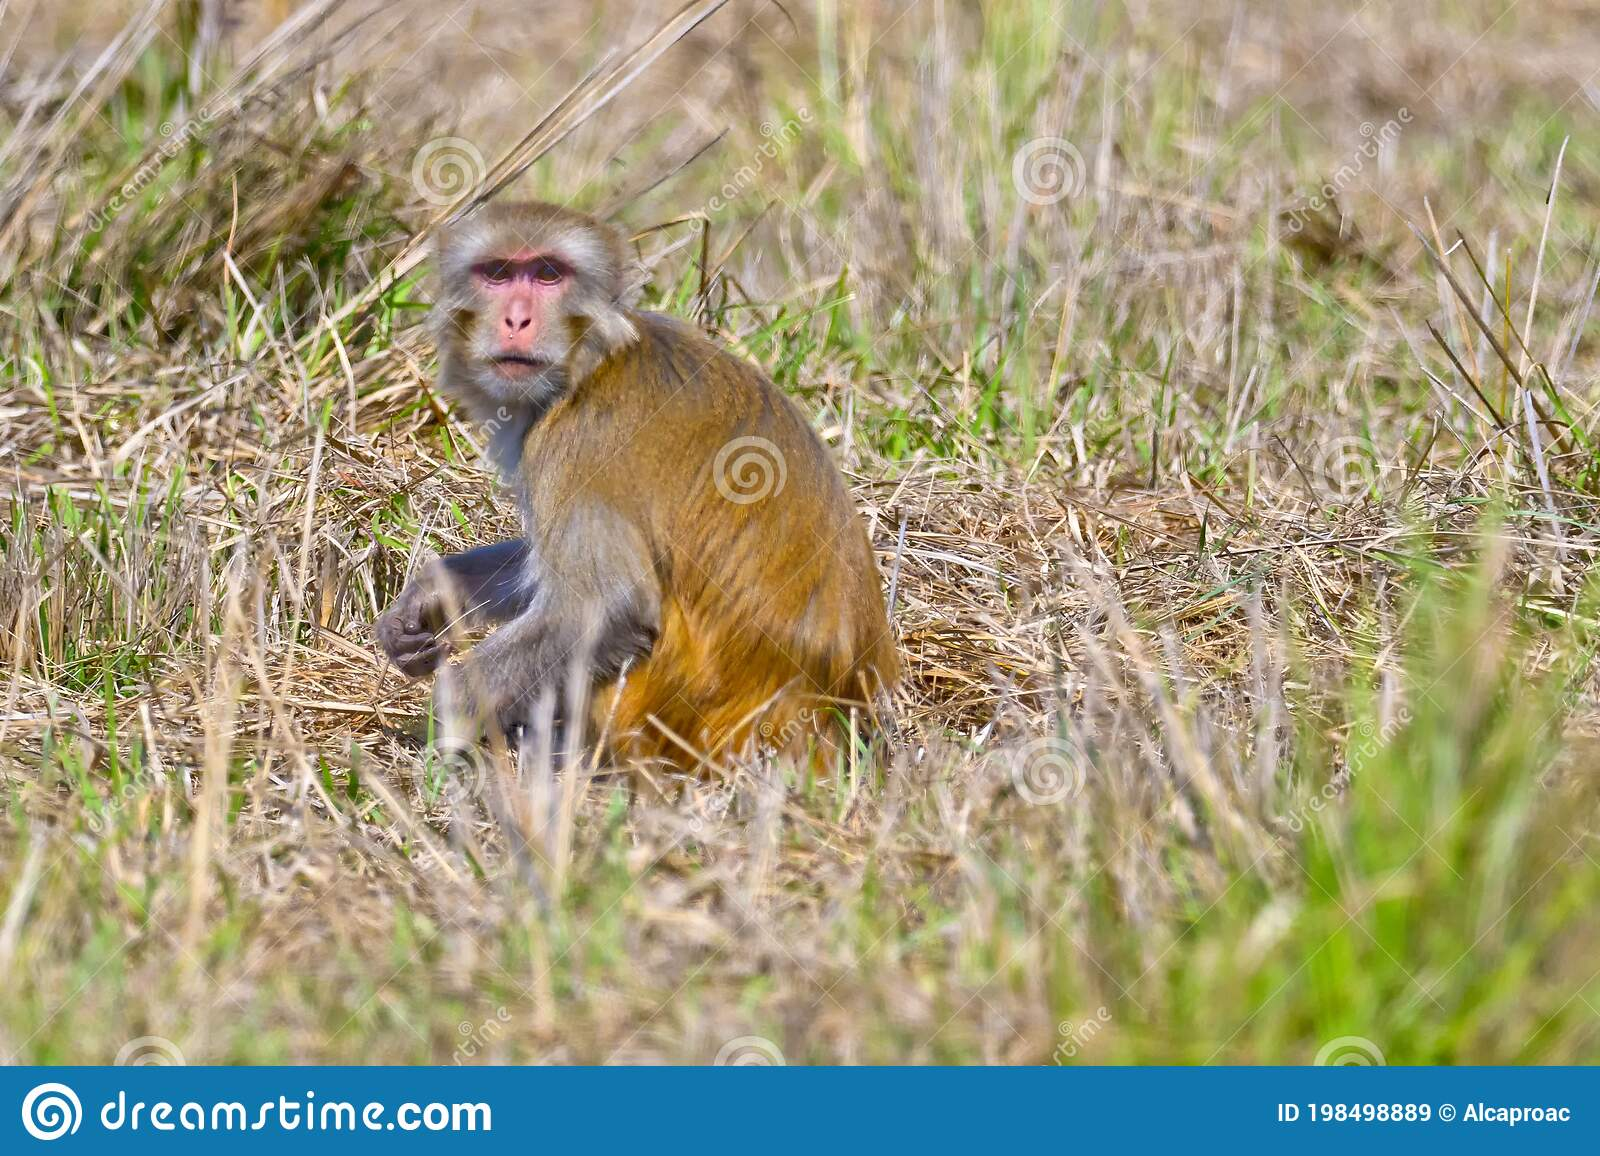monkey: (347, 186, 916, 818)
